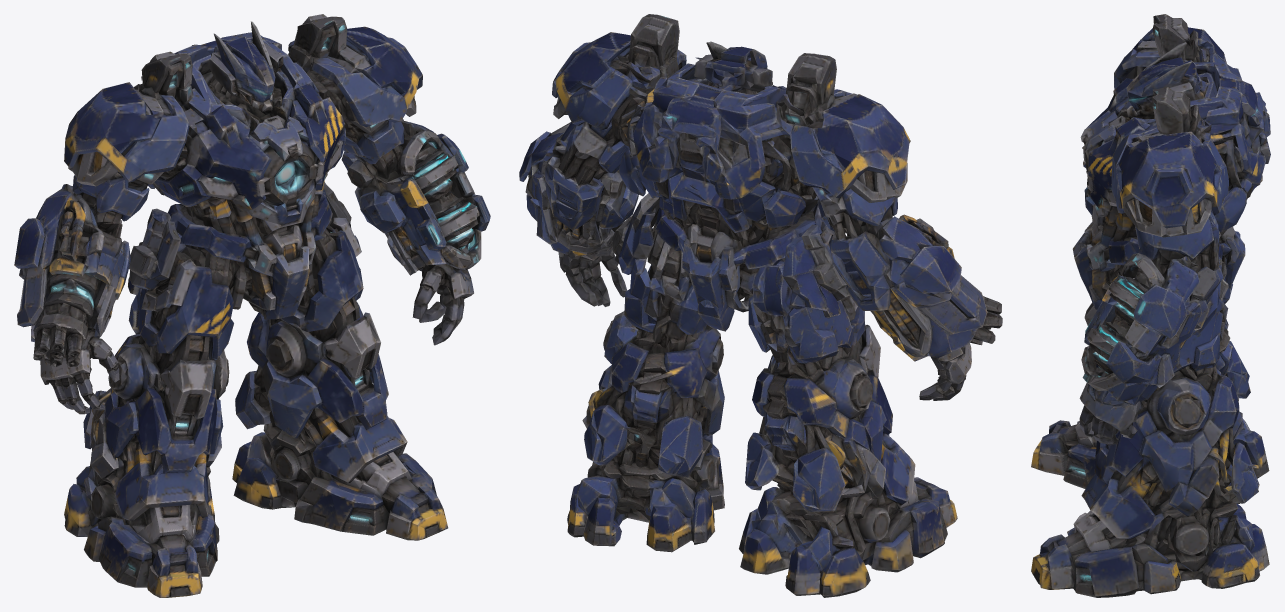
Rendered from arbiter-zero.glb.
3 views of the same model, side by side, from view 1: azimuth 30°, elevation 25°; view 2: azimuth 150°, elevation 25°; view 3: azimuth 270°, elevation 25° (orthographic). The views are drawn at different scales.
Visible parts, largest first — view 1: Mesh_0; view 2: Mesh_0; view 3: Mesh_0.
Part boxes in pixels (x1,y1,x2,y2): Mesh_0: (14,14,490,597); Mesh_0: (519,14,1002,597); Mesh_0: (1031,14,1270,597).
Size of the model in its own units: 1.88 by 1.9 by 0.877.
1 material, 1 textured.
